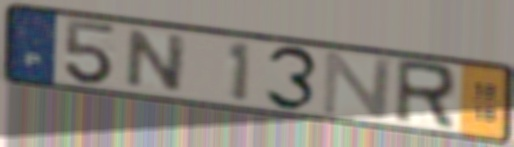1: (224, 40, 252, 103)
3: (258, 44, 324, 113)
5: (62, 16, 119, 88)
N: (319, 49, 397, 121), (122, 27, 191, 94)
R: (391, 57, 459, 133)
